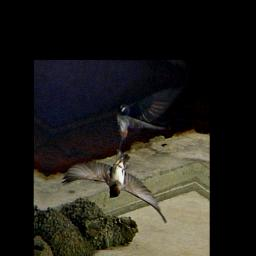Swallow: (55, 139, 178, 225)
